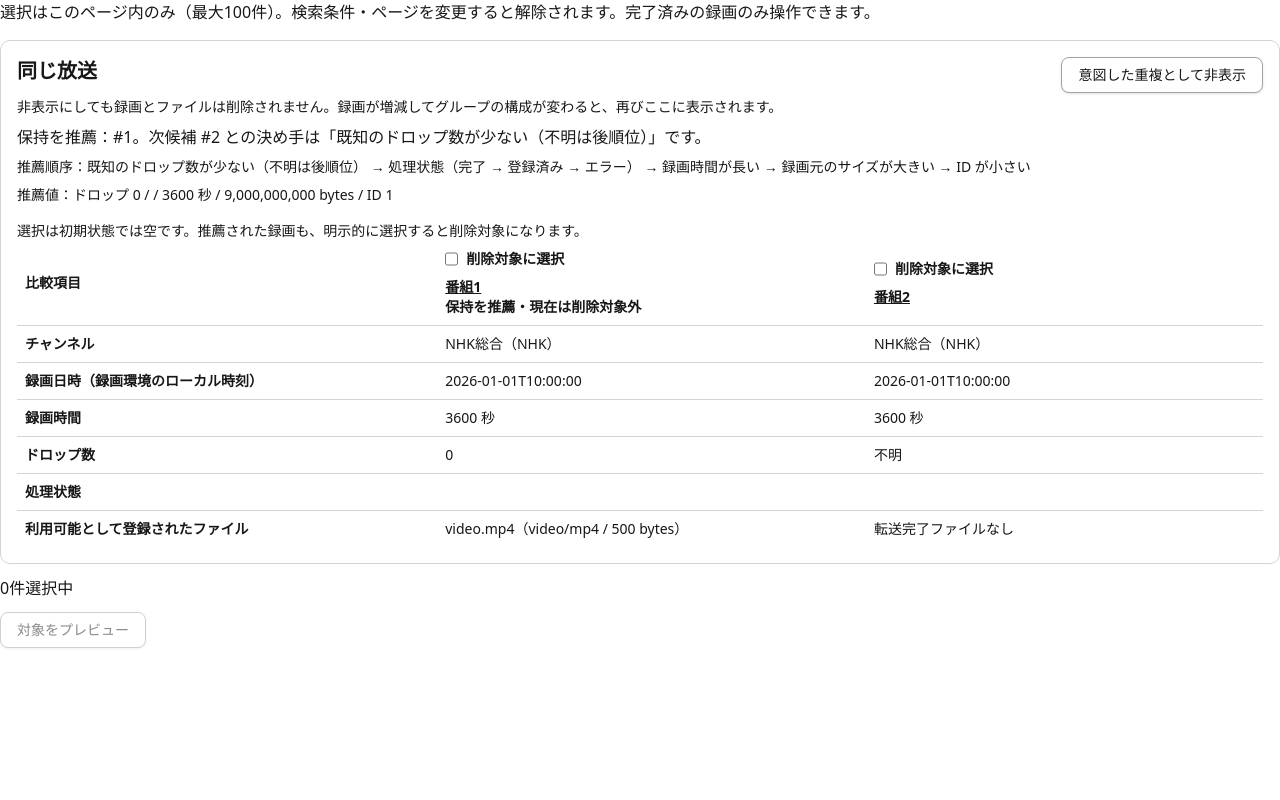
it: DuplicateReviewPanel › uses existing preview, original-preservation details, cancel and explicit apply
Click the checkbox named "削除対象に選択 #2" at point(880, 269), box [874,259,887,279]
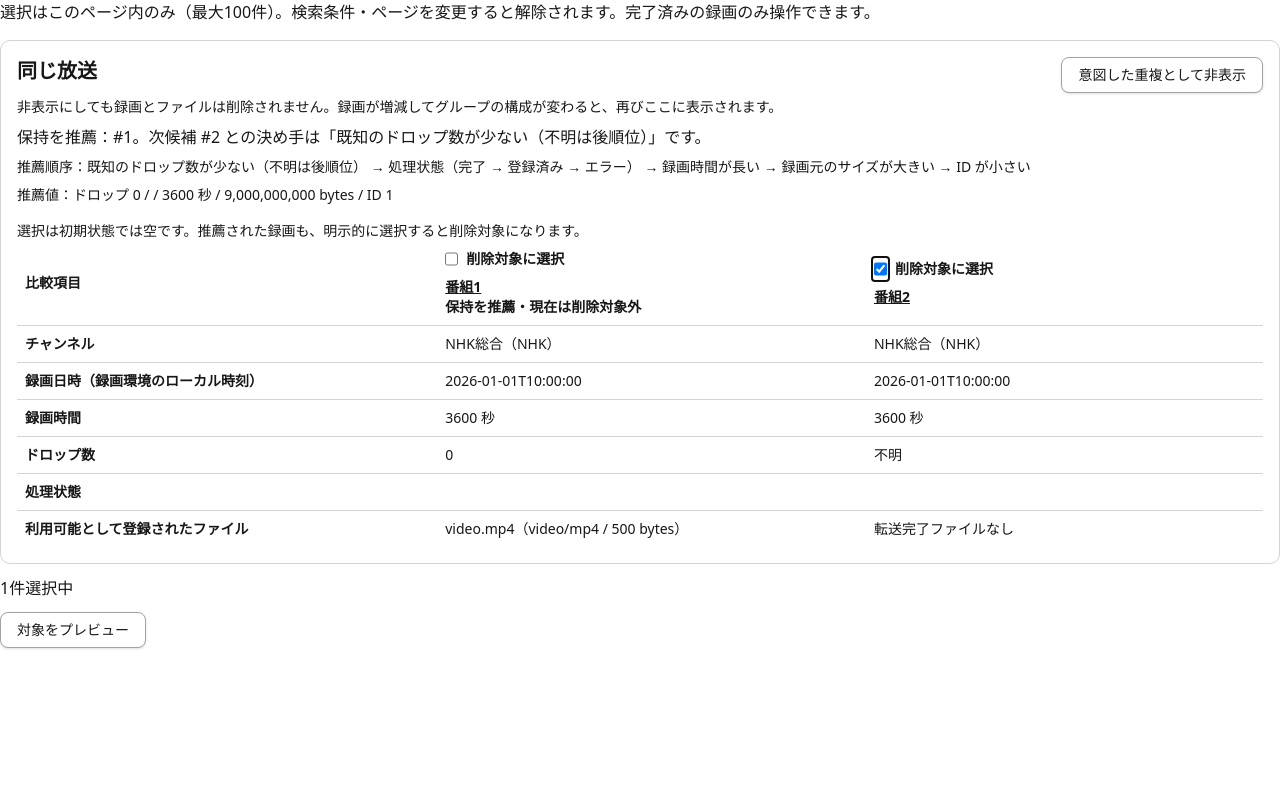
Click the button "対象をプレビュー" at point(73, 630), box [0,612,146,648]
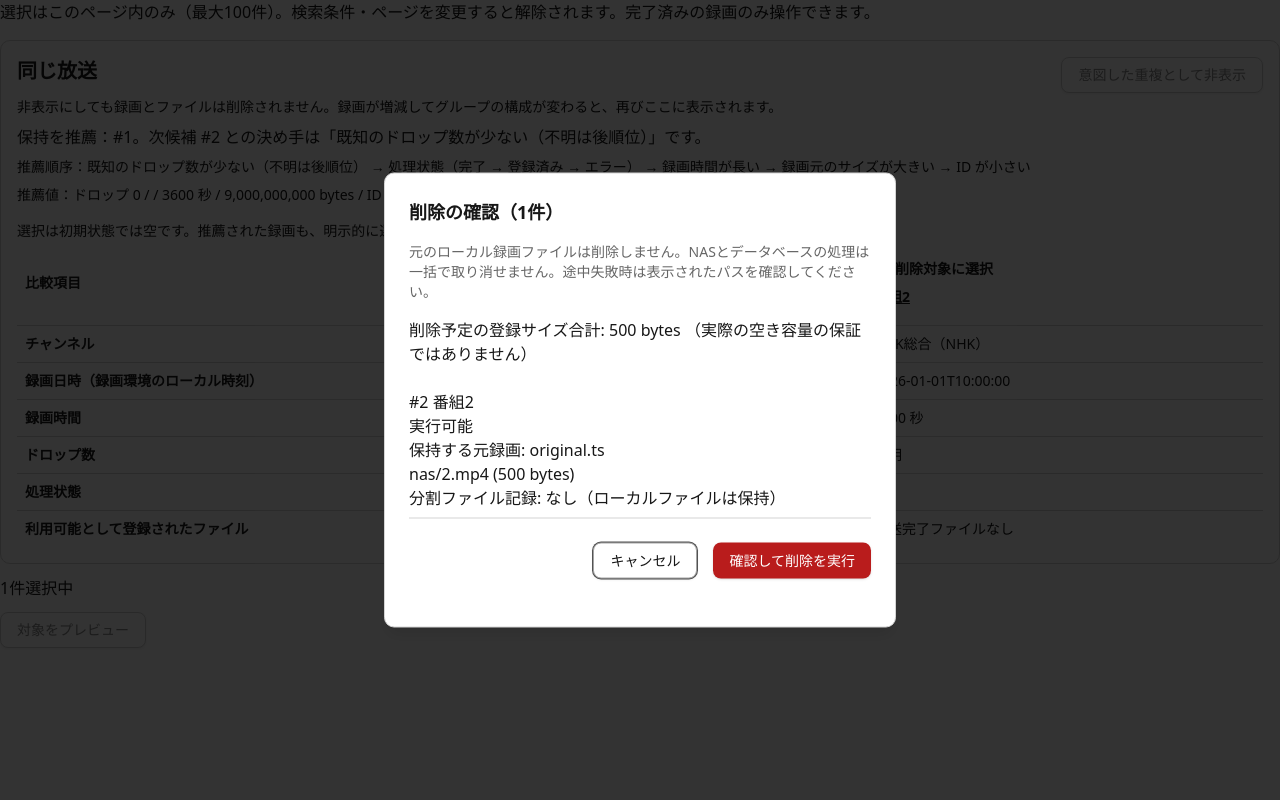
Now the text "保持する元録画: original.ts" is shown, box [409,438,605,460]
Now the list item "nas/2.mp4 (500 bytes)" is shown, box [409,462,574,484]
Click the button "キャンセル" at point(645, 560), box [593,542,697,578]
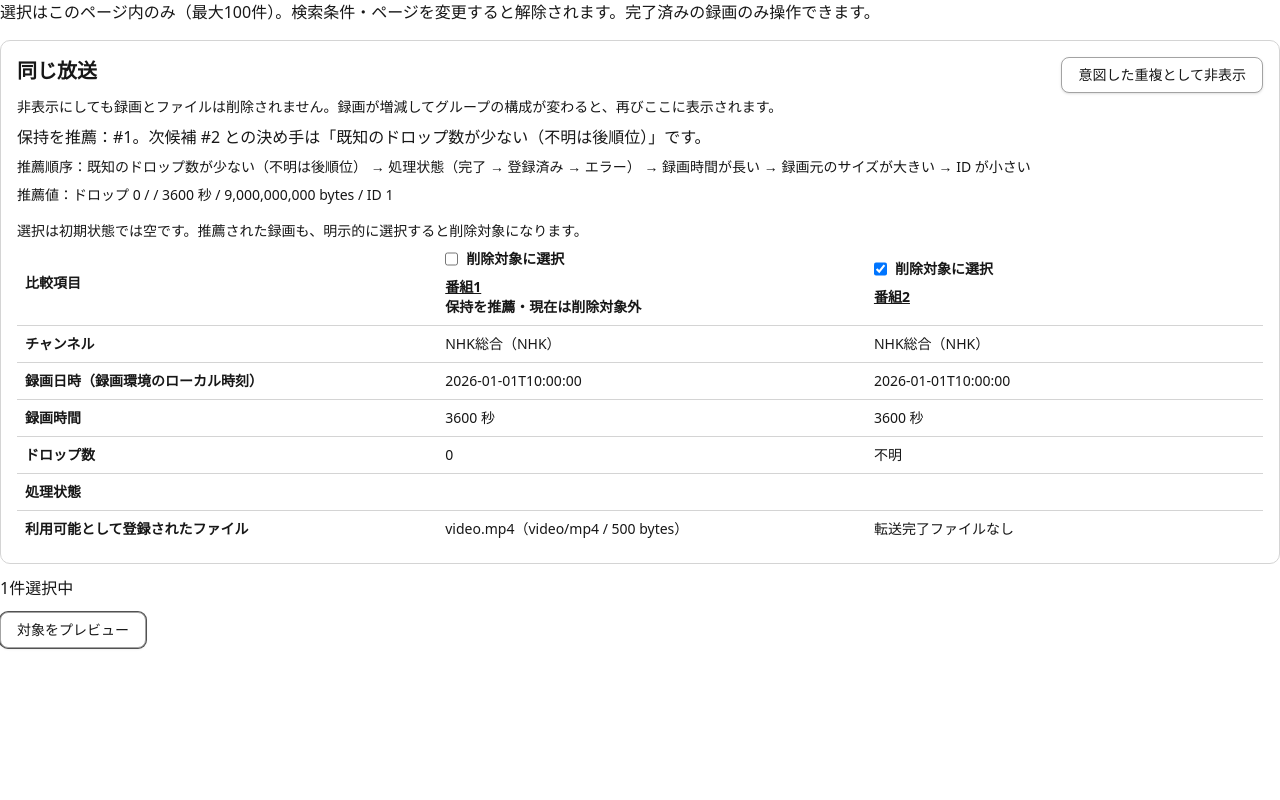
Now the button "確認して削除を実行" is gone
Click the button "対象をプレビュー" at point(73, 630), box [0,612,146,648]
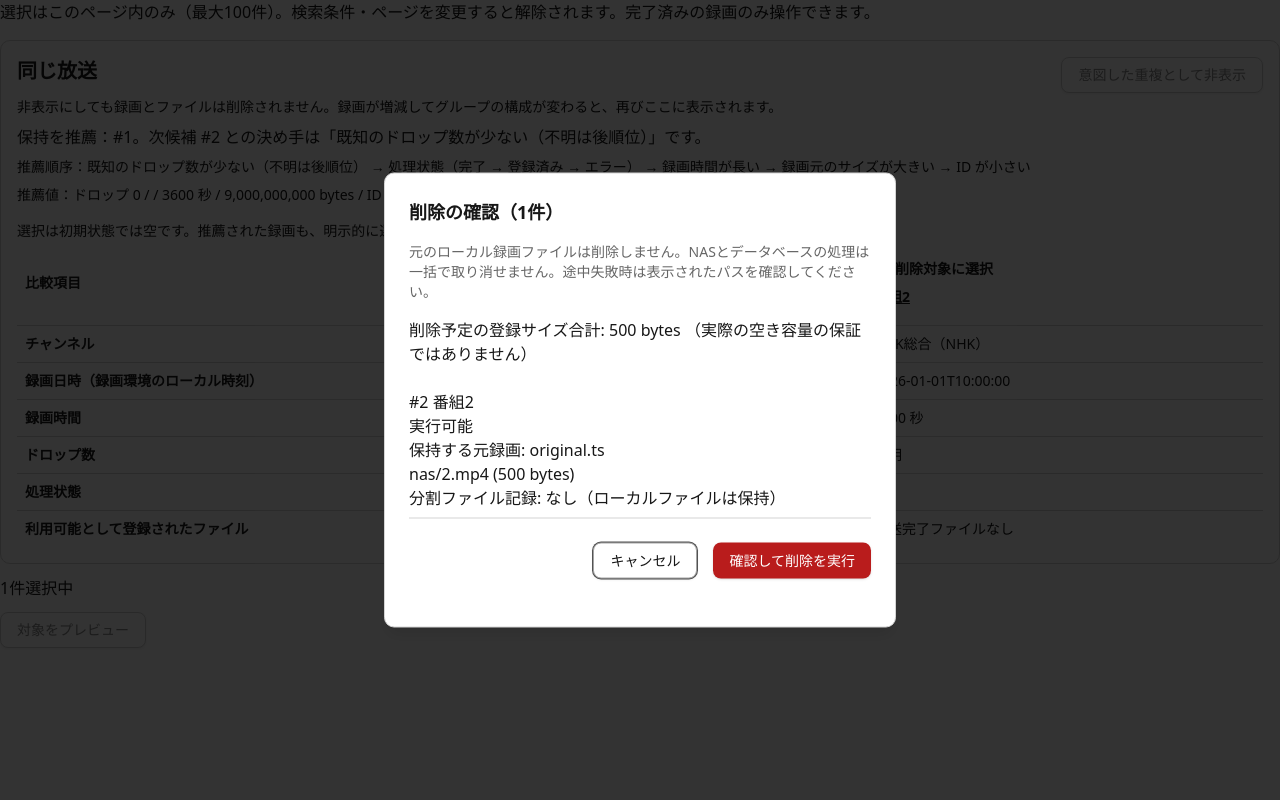
Click the button "確認して削除を実行" at point(792, 560), box [713,542,871,578]
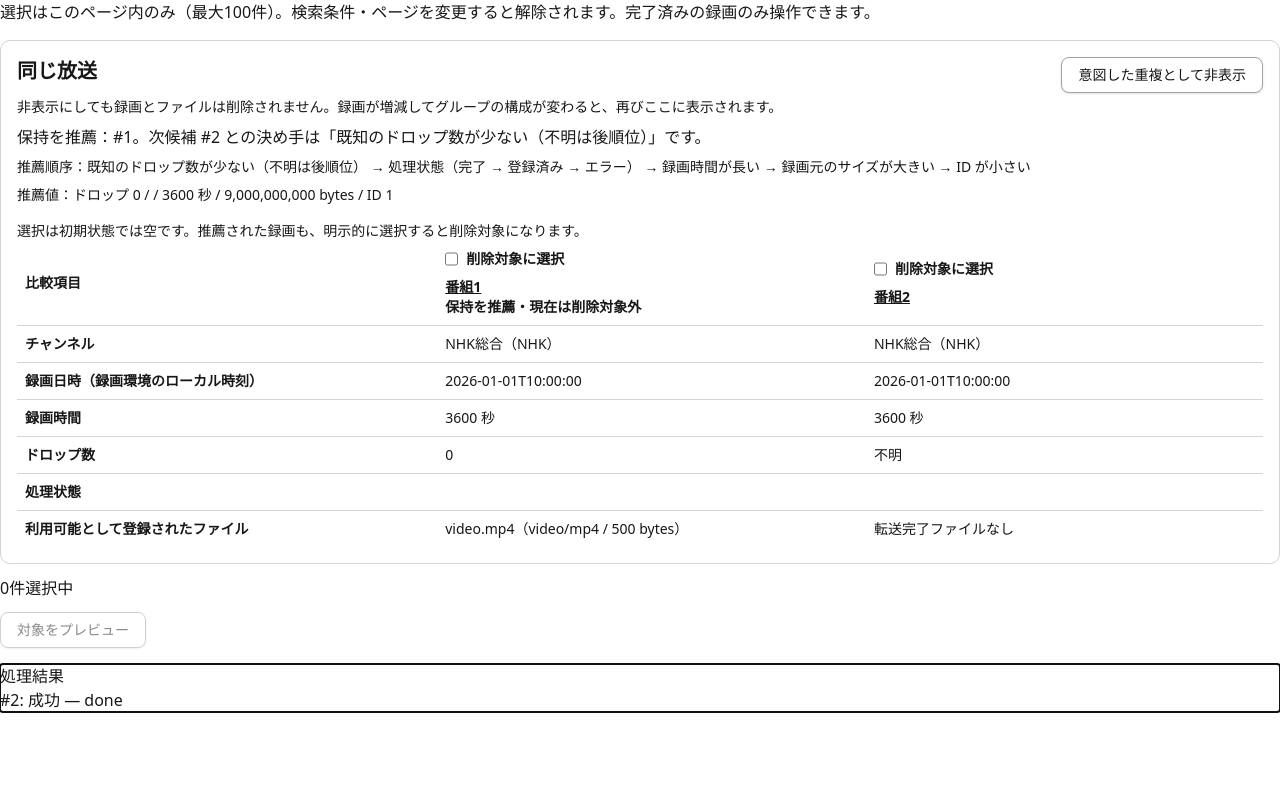
Now the list item "#2: 成功 — done" is shown, box [0,689,123,711]
